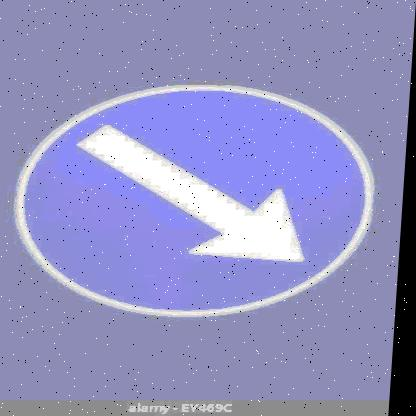Keep right: (14, 80, 384, 320)
